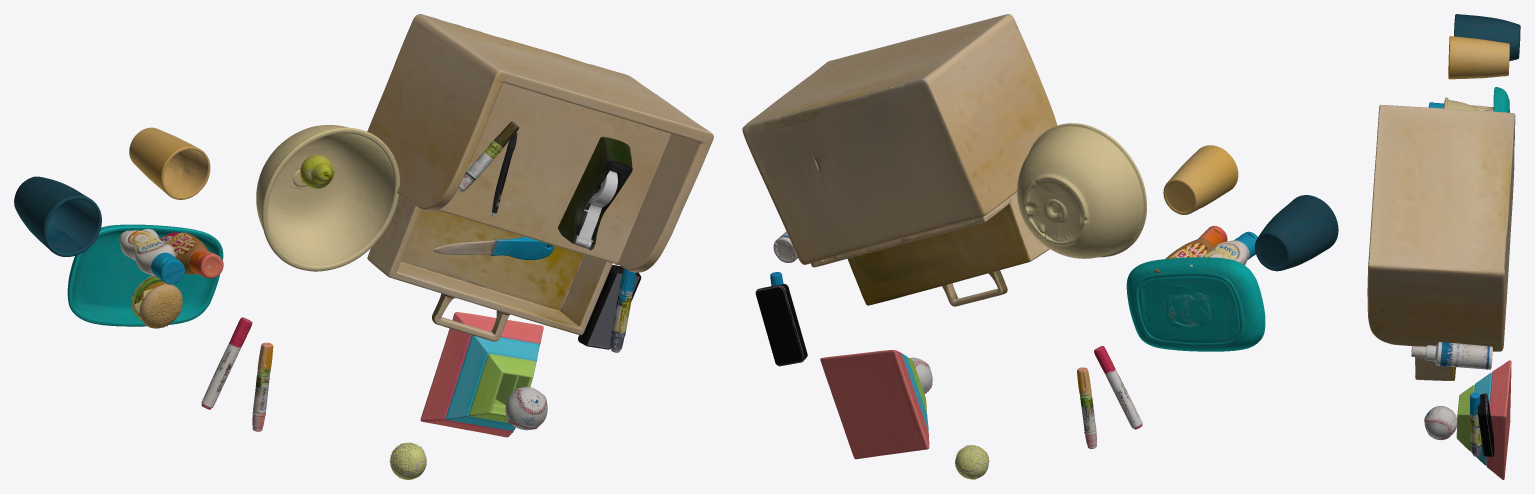
The model's file is simfoundry.glb.
The picture shows the model from 3 angles, left to right: view 1: azimuth 30°, elevation 25°; view 2: azimuth 150°, elevation 25°; view 3: azimuth 270°, elevation 25°; orthographic projection. The views are drawn at different scales.
Bounding box in the file's own units: 0.932 × 0.6487 × 0.2608.
